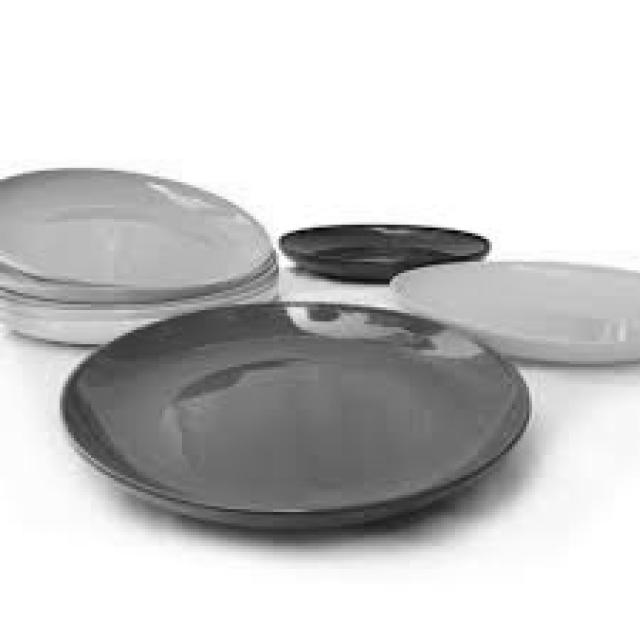dish: (46, 242, 545, 570)
